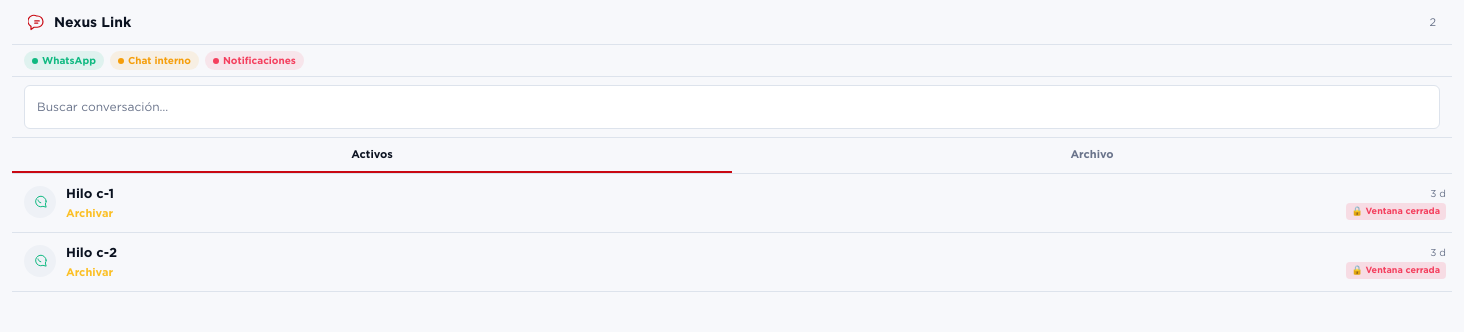
Test: INC-01/D-2 · el error va anclado a la fila que falló › pinta el error DENTRO de la fila que falló y en ninguna otra
What coordinates should you click on to do the following:
click the button "Archivar" below "Hilo c-1"
I would click on:
 (90, 213)
Its box is 66,205 -> 113,222.
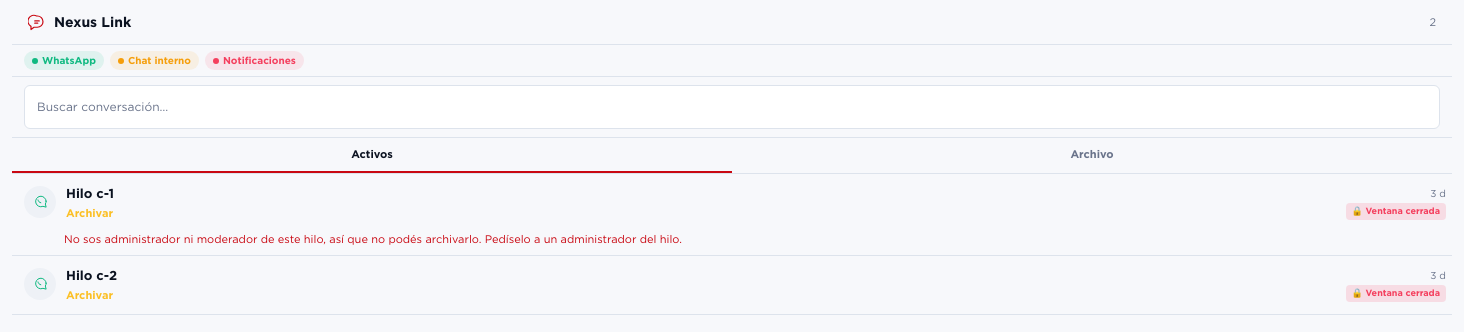
Result: the message with test id "archive-error" shows "No sos administrador ni moderador de este hilo, así que no podés archivarlo. Pedíselo a un administrador del hilo." at 64,232 -> 682,244
